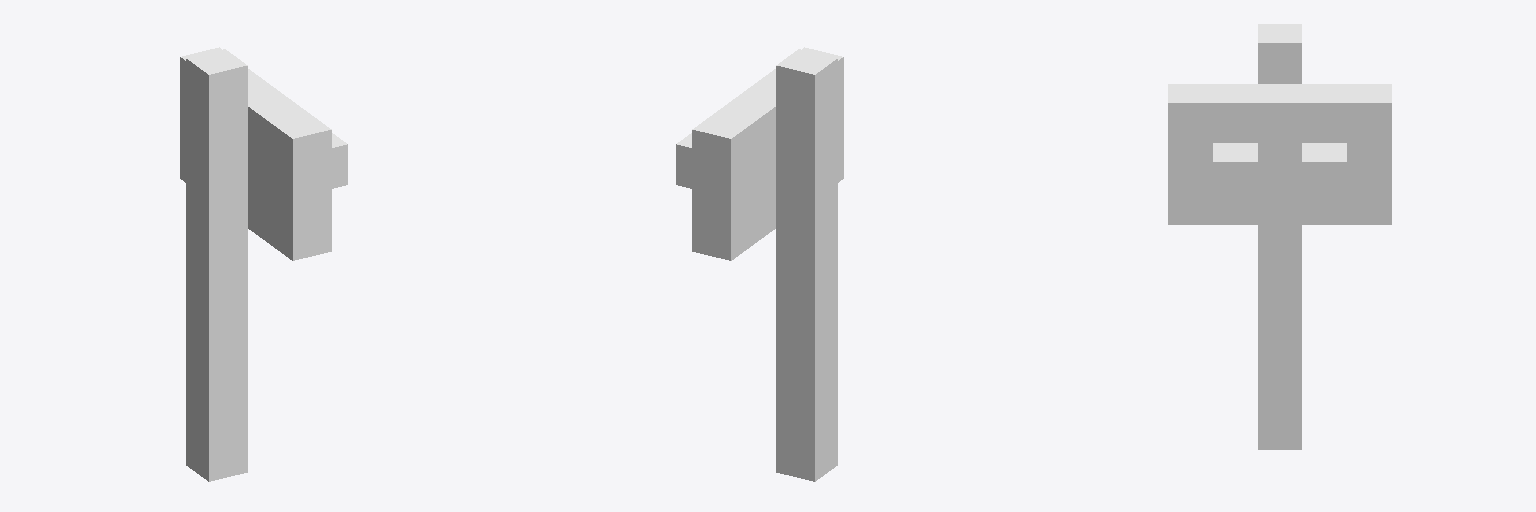
The model's file is rail_sign_active2.obj.
The picture shows the model from 3 angles: view 1: azimuth 30°, elevation 25°; view 2: azimuth 150°, elevation 25°; view 3: azimuth 270°, elevation 25°; orthographic projection.
Visible parts, largest first — view 1: object 1; view 2: object 1; view 3: object 1.
Part boxes in pixels (x1,y1,x2,y2): object 1: (180,47,347,481); object 1: (676,47,843,481); object 1: (1168,24,1391,449).
Bounding box in the file's own units: 0.3 × 1 × 0.5.